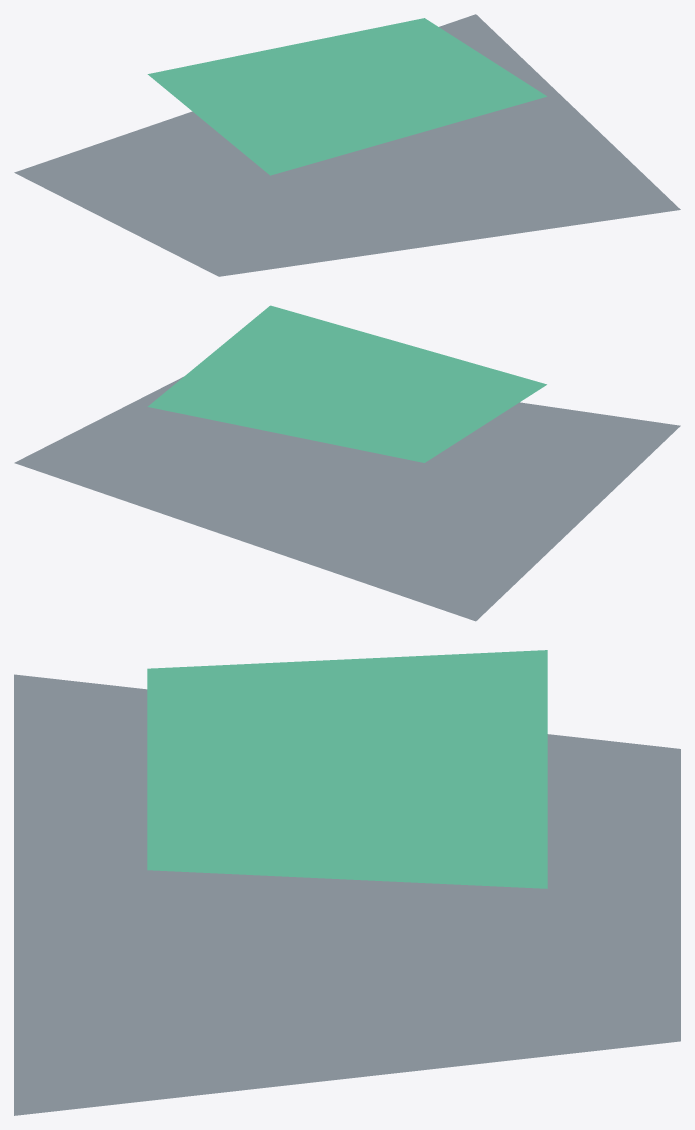
Rendered from CO_LeiheGunship_LOD2.glb.
3 views of the same model, one above another, from view 1: azimuth 30°, elevation 25°; view 2: azimuth 150°, elevation 25°; view 3: azimuth 270°, elevation 25° (orthographic). The views are drawn at different scales.
Parts seen in each view (by area): view 1: EntranceGate; view 2: EntranceGate; view 3: EntranceGate.
Boxes of the visible parts, box(x1,y1,x2,y2) form: EntranceGate: box(14, 14, 680, 276); EntranceGate: box(14, 305, 680, 621); EntranceGate: box(14, 650, 680, 1115).
Bounding box in the file's own units: 690 × 151 × 530.
